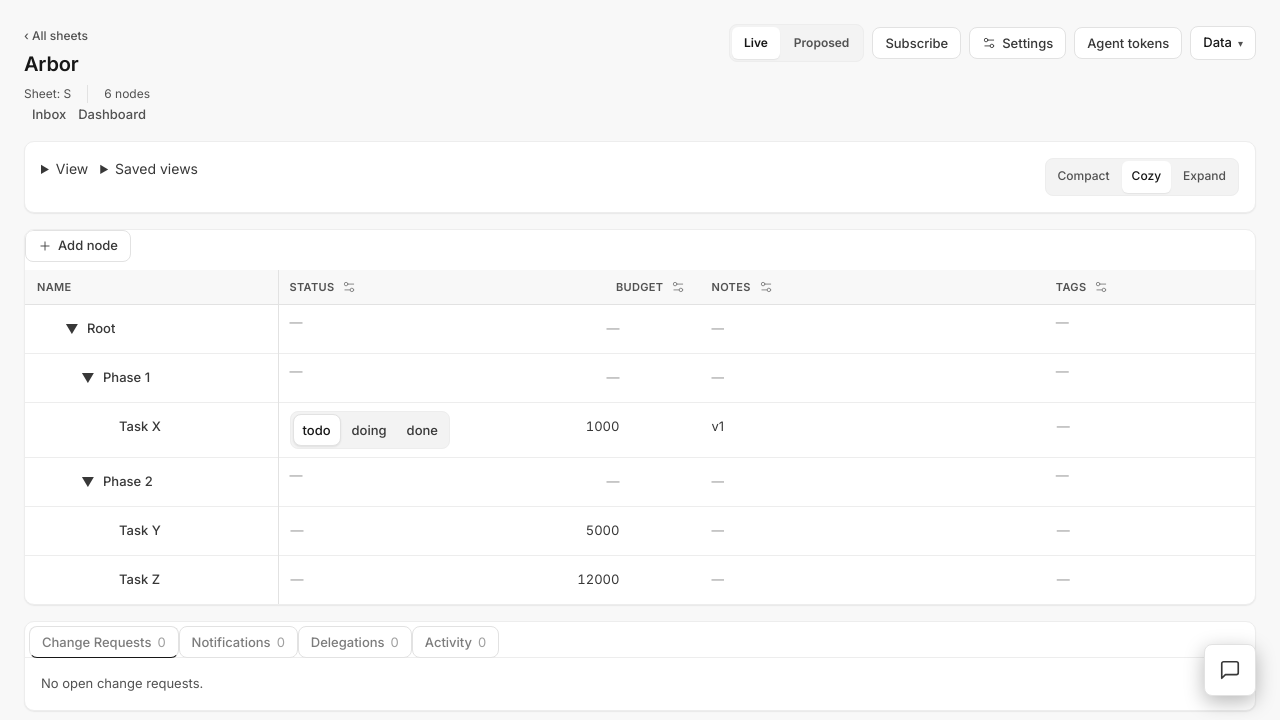
Scenario: App — ErrorBoundary containment › sheet-settings crash is caught by its boundary while the grid + header survive
The width and height of the screenshot is (1280, 720).
Check: the table with test id "tree-table" is shown, box [25, 270, 1255, 604]
Open the Sheet Settings modal — its body throws on render.
Step 1. Click the button with test id "sheet-settings-button" → {"x": 1018, "y": 43}, box [969, 27, 1066, 59]
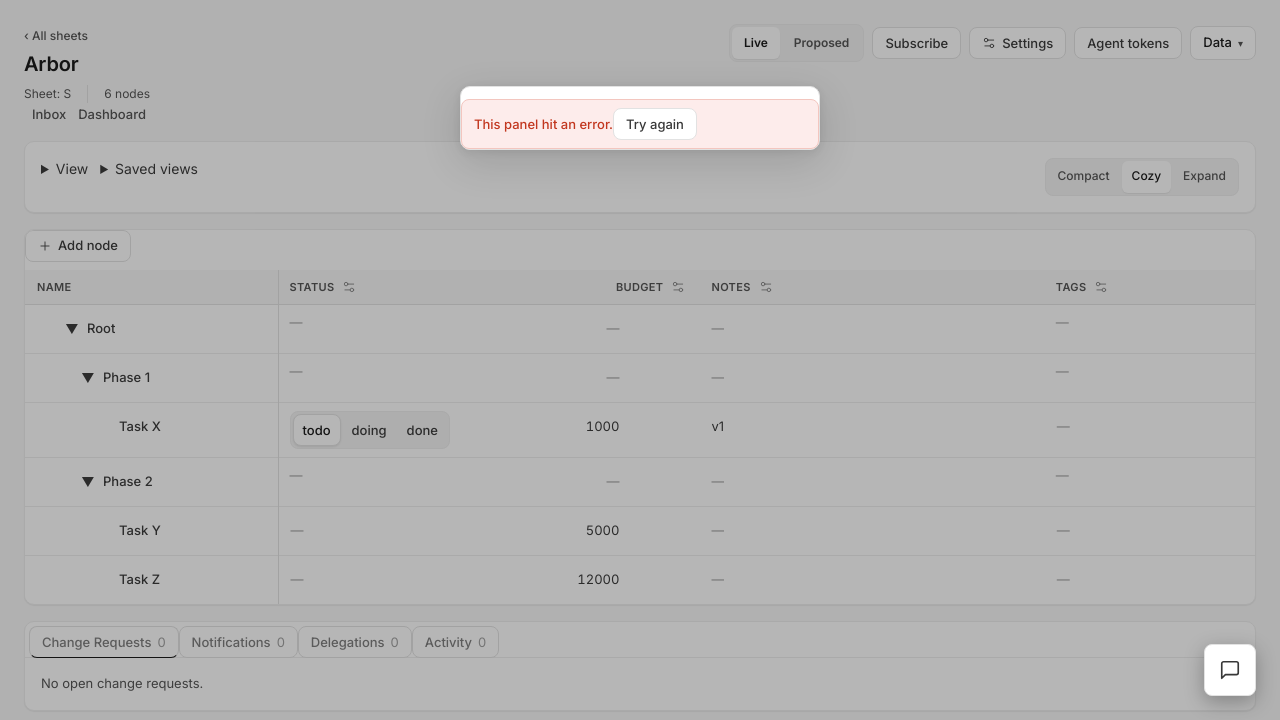
Check: the table with test id "tree-table" is shown, box [25, 270, 1255, 604]
Check: the message with test id "error-boundary-sheet-settings" shows "This panel hit an error.", box [474, 116, 613, 132]
Check: the button with test id "error-boundary-sheet-settings-reset" is shown, box [613, 108, 697, 140]
